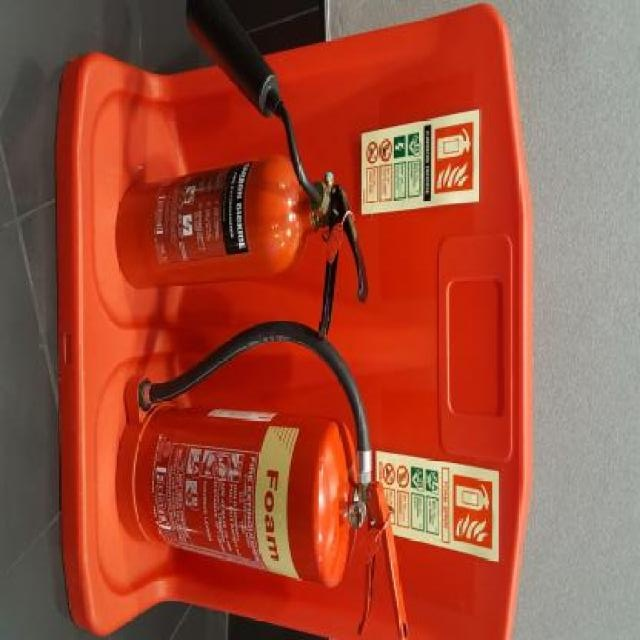fire extinguisher: (132, 319, 410, 635), (130, 4, 368, 336)
